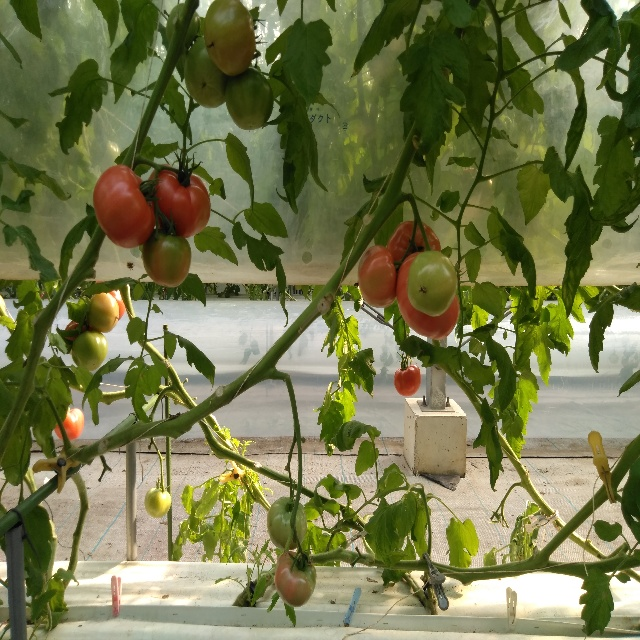b_fully_ripened: (396, 252, 460, 341), (92, 164, 155, 249), (147, 163, 211, 238), (55, 408, 85, 441), (394, 364, 421, 397)
b_green: (184, 36, 231, 109), (407, 250, 458, 317), (225, 66, 274, 131), (266, 497, 307, 551), (166, 3, 201, 54), (71, 331, 108, 372), (86, 293, 119, 332), (144, 488, 171, 518)
b_half_ripened: (204, 0, 255, 77), (141, 229, 192, 288), (386, 220, 441, 274), (358, 245, 398, 309), (274, 551, 317, 608)
